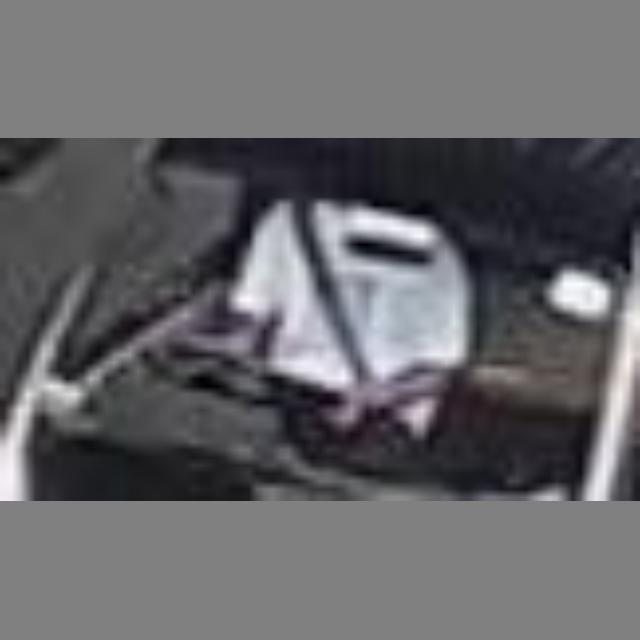pakai: (229, 201, 466, 407)
